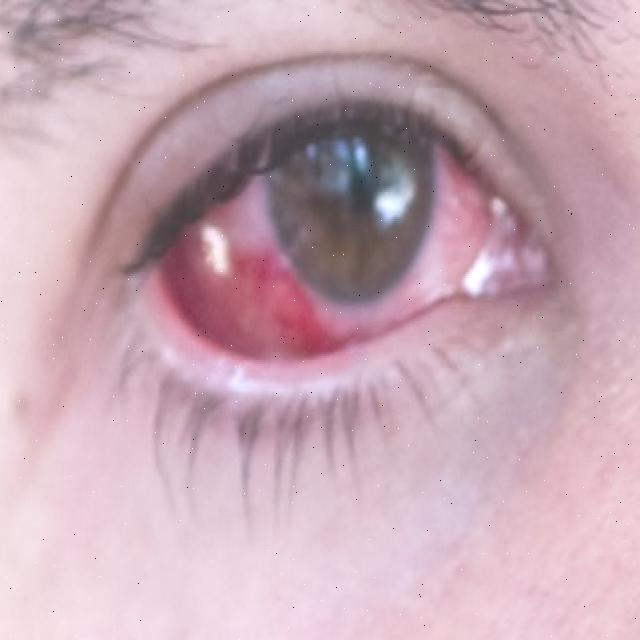Conjunctivitis: (116, 178, 543, 362)
